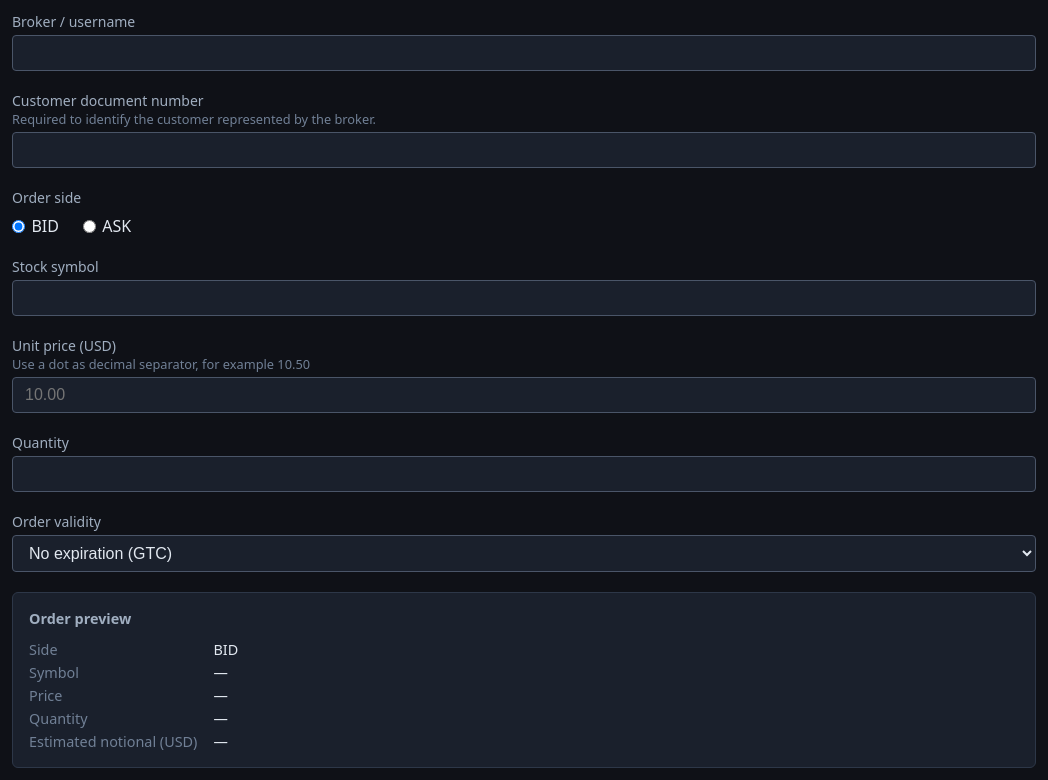
Test: SubmitOrderForm – price input › normalizes price to two decimals on blur
Type "10.5" into the field labelled "Unit price (USD)". click: (524, 395)
box: [12, 377, 1036, 413]
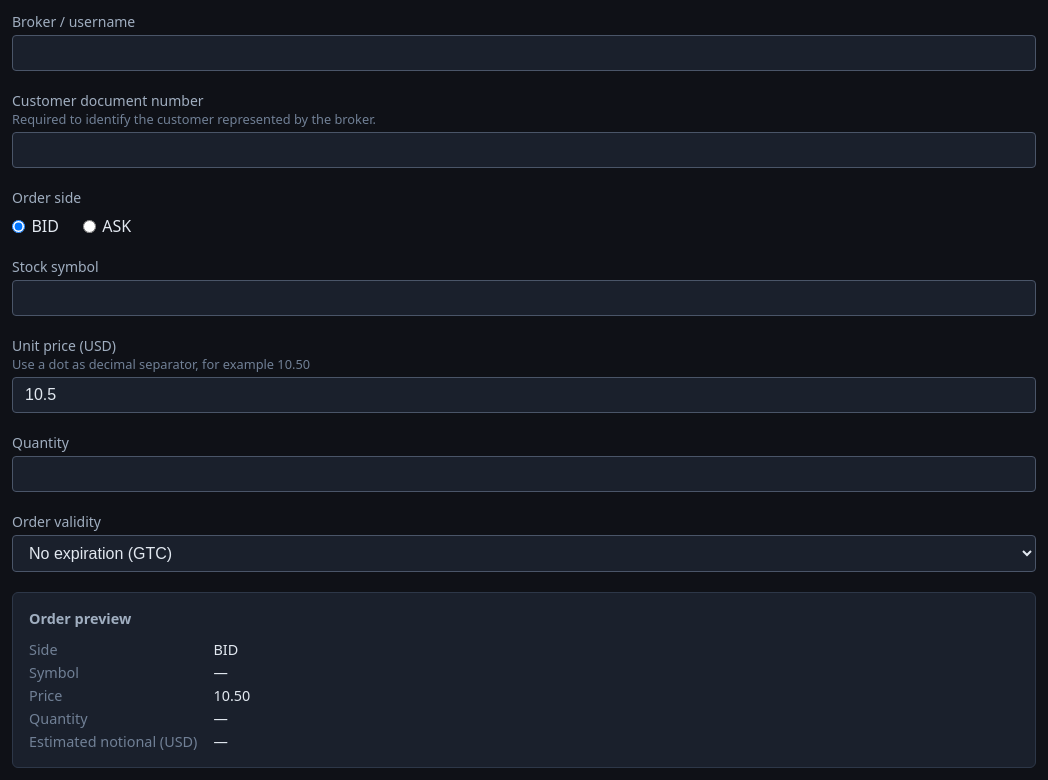
Leave the field labelled "Unit price (USD)", box [12, 377, 1036, 413]
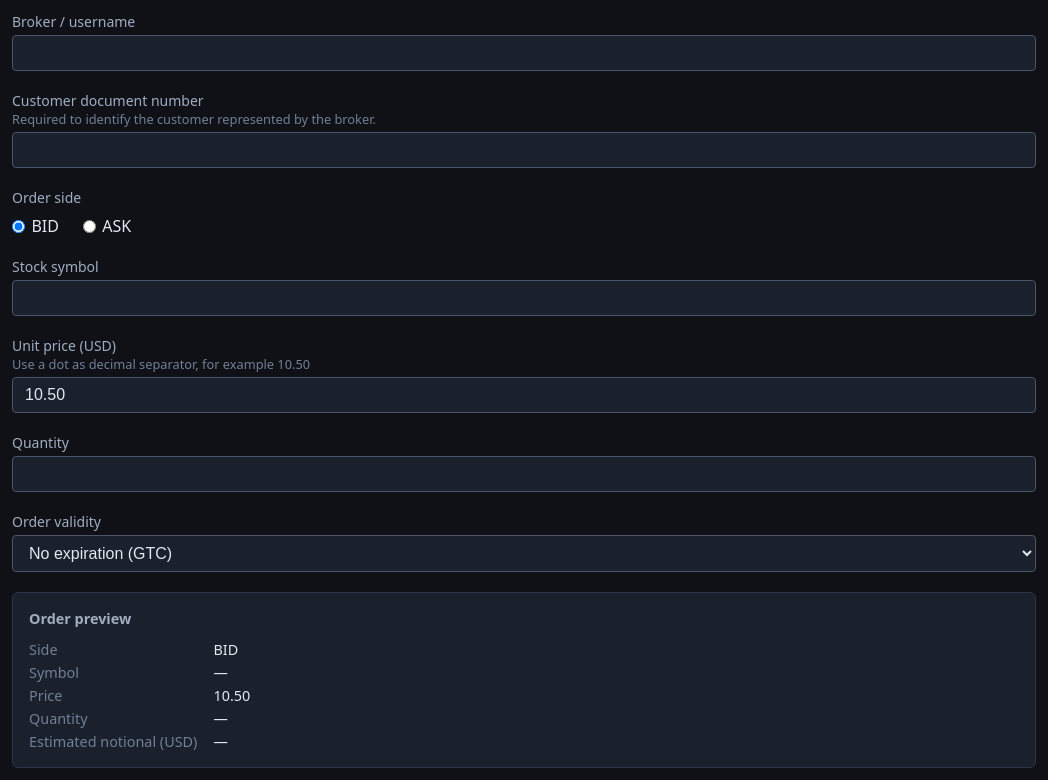
Check: the field labelled "Unit price (USD)" holds "10.50", box [12, 377, 1036, 413]
